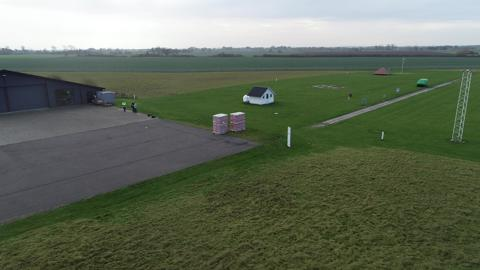RockwoolPallet: (229, 111, 245, 131)
